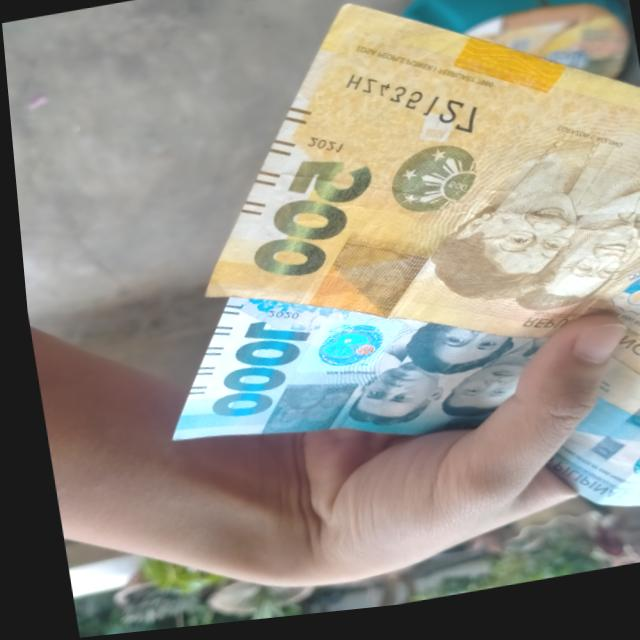concealed_value: (292, 235, 427, 340), (242, 376, 354, 449)
optically_variable_device: (359, 132, 495, 244), (265, 310, 404, 402)
security_thread: (538, 398, 640, 496)
value: (230, 144, 380, 298), (189, 310, 324, 428)
